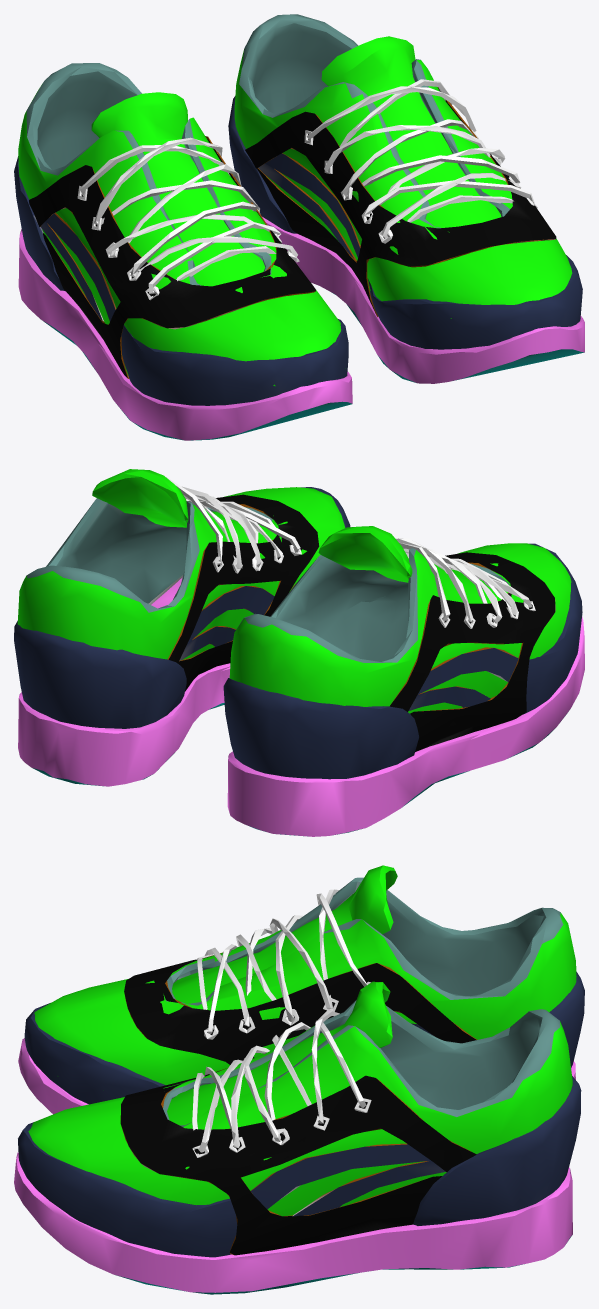
File: trainers.glb
The picture shows the model from 3 angles, top to bottom: view 1: azimuth 30°, elevation 25°; view 2: azimuth 150°, elevation 25°; view 3: azimuth 270°, elevation 25°; orthographic projection. The views are drawn at different scales.
Parts seen in each view (by area): view 1: shoeLeft, shoeRight; view 2: shoeLeft, shoeRight; view 3: shoeRight, shoeLeft.
Boxes of the visible parts, bbox=[...] form: shoeLeft: bbox=[14, 63, 352, 440]; shoeRight: bbox=[228, 14, 584, 383]; shoeLeft: bbox=[223, 526, 584, 836]; shoeRight: bbox=[14, 469, 350, 786]; shoeRight: bbox=[14, 981, 581, 1294]; shoeLeft: bbox=[18, 865, 584, 1114].
Bounding box in the file's own units: 0.2173 × 0.1258 × 0.2474.
